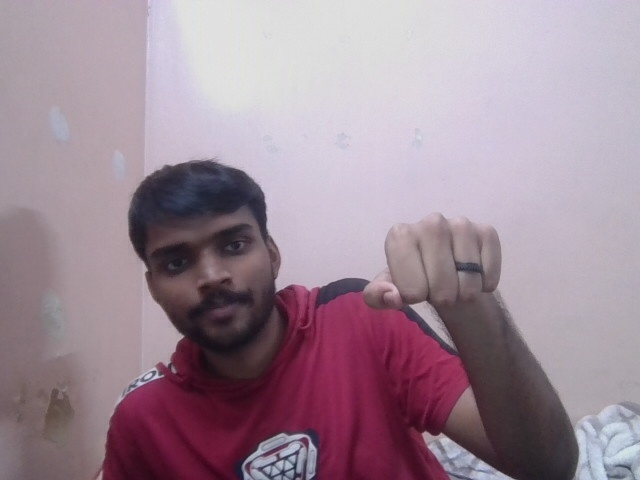Yes: (365, 207, 514, 313)
